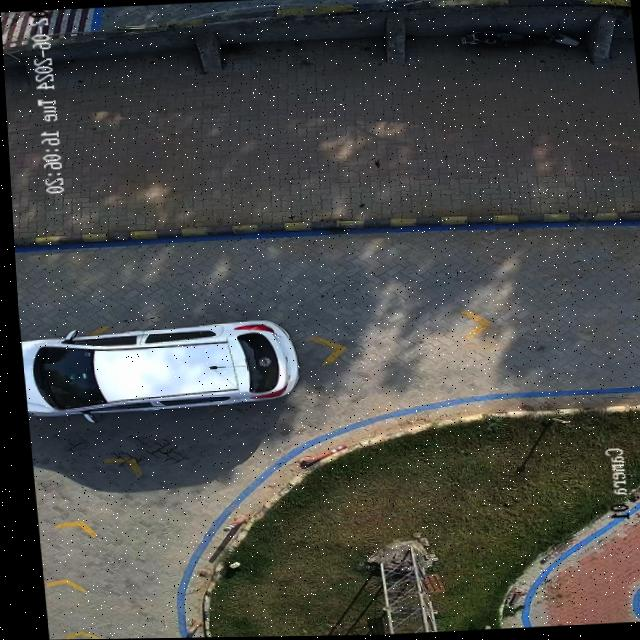car: (17, 321, 295, 412)
